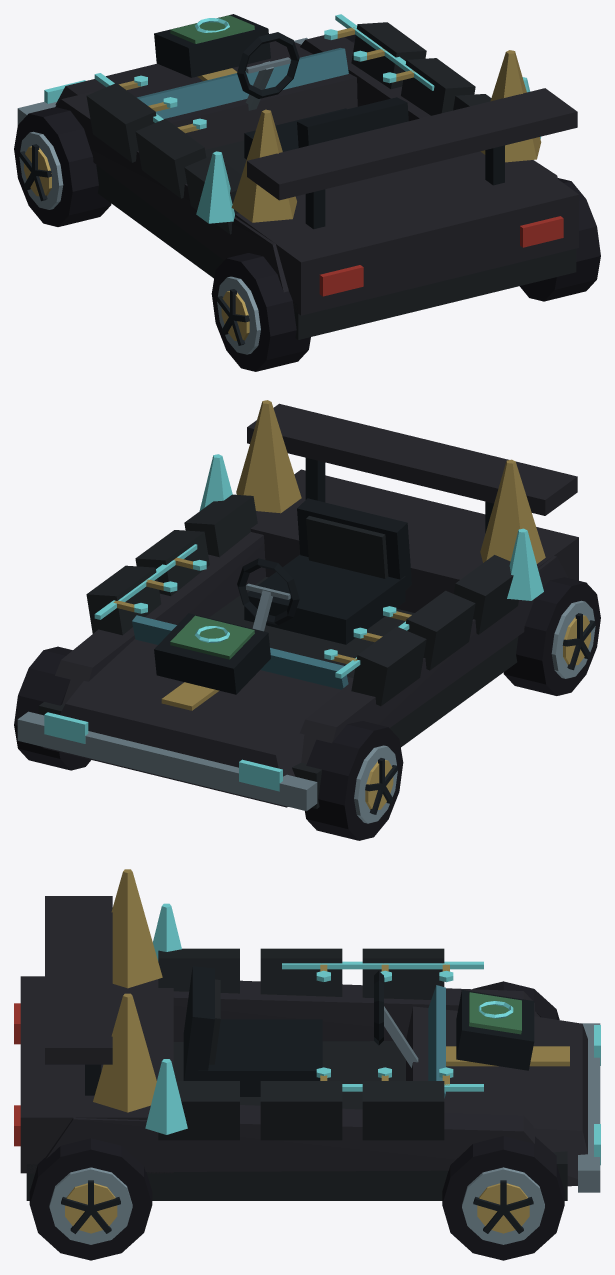
The model's file is kart.glb.
The picture shows the model from 3 angles, top to bottom: view 1: azimuth 30°, elevation 25°; view 2: azimuth 150°, elevation 25°; view 3: azimuth 270°, elevation 25°; orthographic projection. The views are drawn at different scales.
Parts seen in each view (by area): view 1: identity-sports-car-sports-car-road-car-body, identity-sports-car-motif-armor, wheel-front-left, wheel-rear-left, identity-sports-car-motif-crystals, identity-sports-car-driver-cockpit, identity-sports-car-motif-scanner, wheel-rear-right, identity-sports-car-motif-circuit; view 2: identity-sports-car-sports-car-road-car-body, identity-sports-car-motif-armor, identity-sports-car-driver-cockpit, identity-sports-car-motif-crystals, wheel-front-left, wheel-rear-left, identity-sports-car-motif-scanner, wheel-front-right, identity-sports-car-motif-circuit; view 3: identity-sports-car-sports-car-road-car-body, identity-sports-car-motif-armor, wheel-front-right, identity-sports-car-driver-cockpit, wheel-rear-right, identity-sports-car-motif-crystals, identity-sports-car-motif-scanner, identity-sports-car-motif-circuit, wheel-front-left.
Boxes of the visible parts, box(x1,y1,x2,y2) form: identity-sports-car-sports-car-road-car-body: box(17, 35, 578, 339); identity-sports-car-motif-armor: box(86, 22, 491, 234); wheel-front-left: box(14, 107, 111, 226); wheel-rear-left: box(211, 253, 310, 371); identity-sports-car-motif-crystals: box(196, 50, 541, 223); identity-sports-car-driver-cockpit: box(237, 32, 408, 159); identity-sports-car-motif-scanner: box(154, 14, 270, 77); wheel-rear-right: box(519, 178, 600, 301); identity-sports-car-motif-circuit: box(94, 14, 434, 133); identity-sports-car-sports-car-road-car-body: box(17, 403, 578, 811); identity-sports-car-motif-armor: box(86, 494, 518, 706); identity-sports-car-driver-cockpit: box(237, 498, 411, 644); identity-sports-car-motif-crystals: box(199, 400, 545, 600); wheel-front-left: box(305, 721, 403, 840); wheel-rear-left: box(503, 577, 600, 695); identity-sports-car-motif-scanner: box(154, 613, 270, 694); wheel-front-right: box(14, 646, 90, 770); identity-sports-car-motif-circuit: box(94, 544, 411, 678); identity-sports-car-sports-car-road-car-body: box(14, 896, 600, 1200); identity-sports-car-motif-armor: box(158, 948, 444, 1140); wheel-front-right: box(442, 1136, 564, 1260); identity-sports-car-driver-cockpit: box(183, 966, 418, 1096); wheel-rear-right: box(29, 1138, 152, 1260); identity-sports-car-motif-crystals: box(93, 869, 187, 1134); identity-sports-car-motif-scanner: box(456, 990, 534, 1070); identity-sports-car-motif-circuit: box(282, 961, 483, 1091); wheel-front-left: box(472, 981, 559, 1019).
Bounding box in the file's own units: 2.07 × 1.32 × 2.88.
